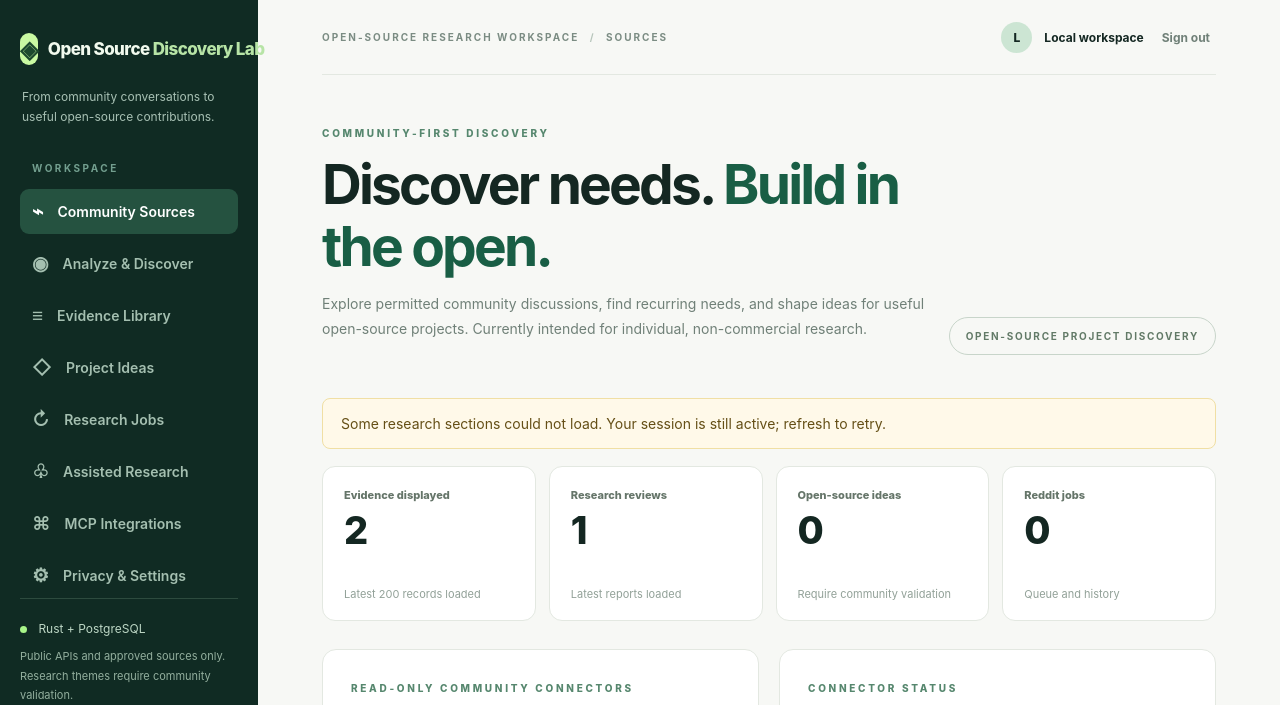
Test: local login › retains authentication when an optional research endpoint fails, then clears data on logout
expect the button "Sign out" is shown: met, box [1156,28,1216,46]
expect the text "Some research sections could not load" is shown: met, box [341,415,886,432]
Click the button "≡ Evidence Library".
click(129, 315)  # box [20,293,238,338]
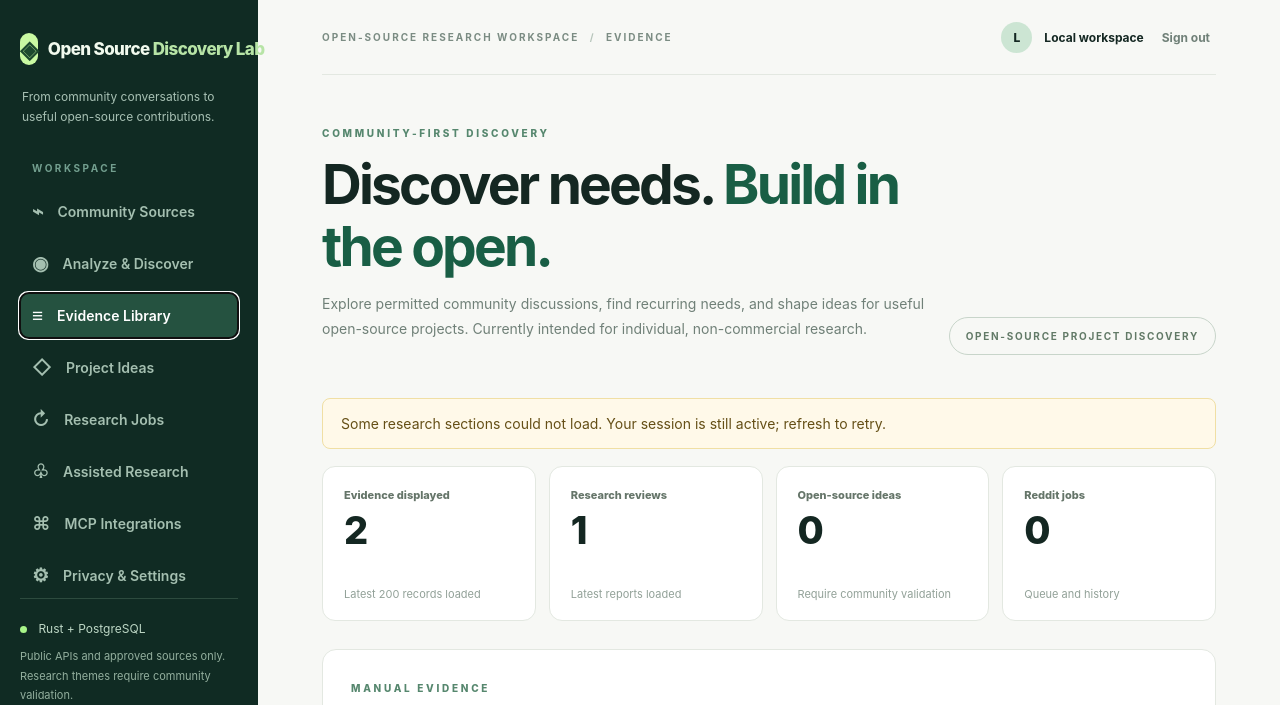
Click the button "Sign out".
click(1186, 37)  # box [1156,28,1216,46]
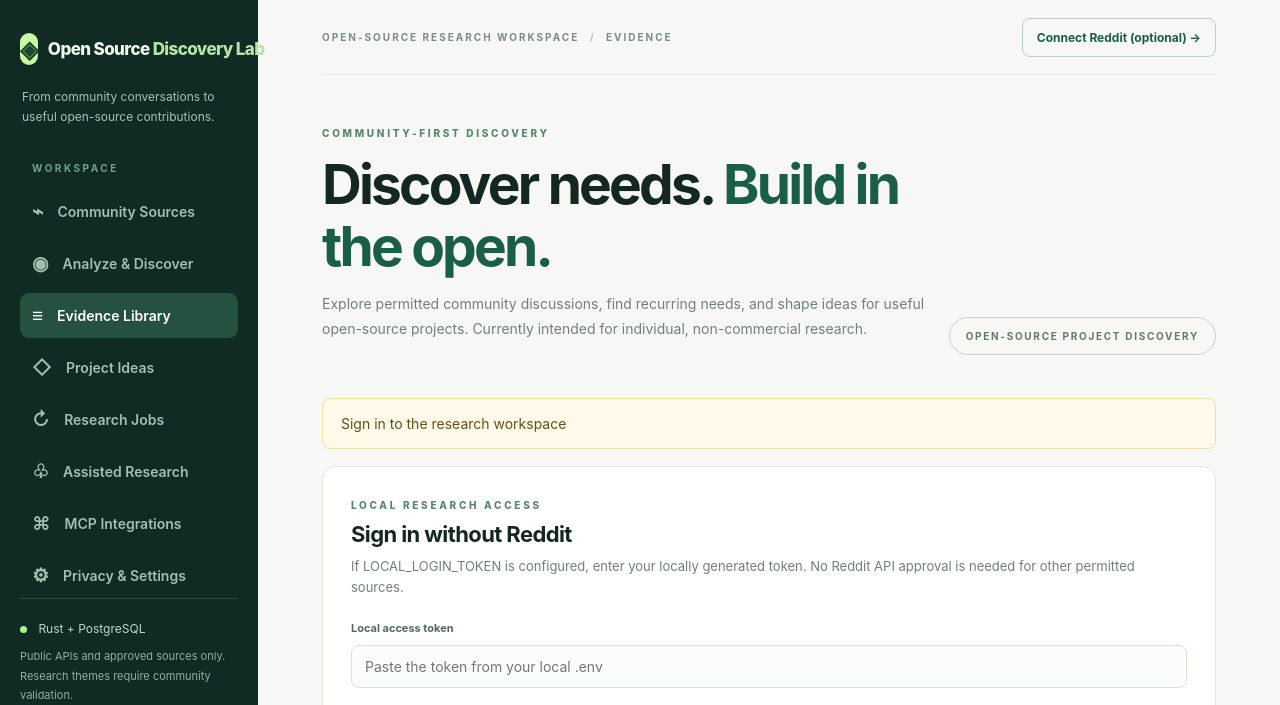
expect the password field labelled "Local access token" is shown: met, box [351,645,1187,688]
